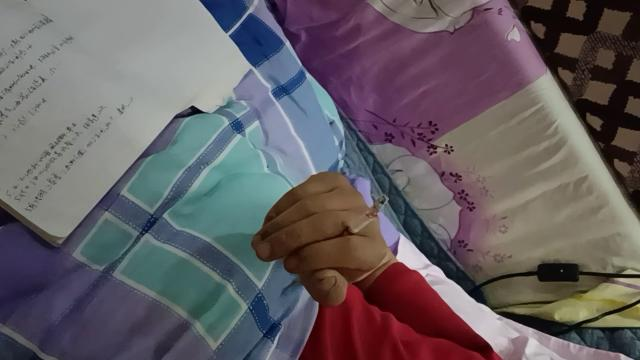Cigarette: (337, 194, 389, 241)
